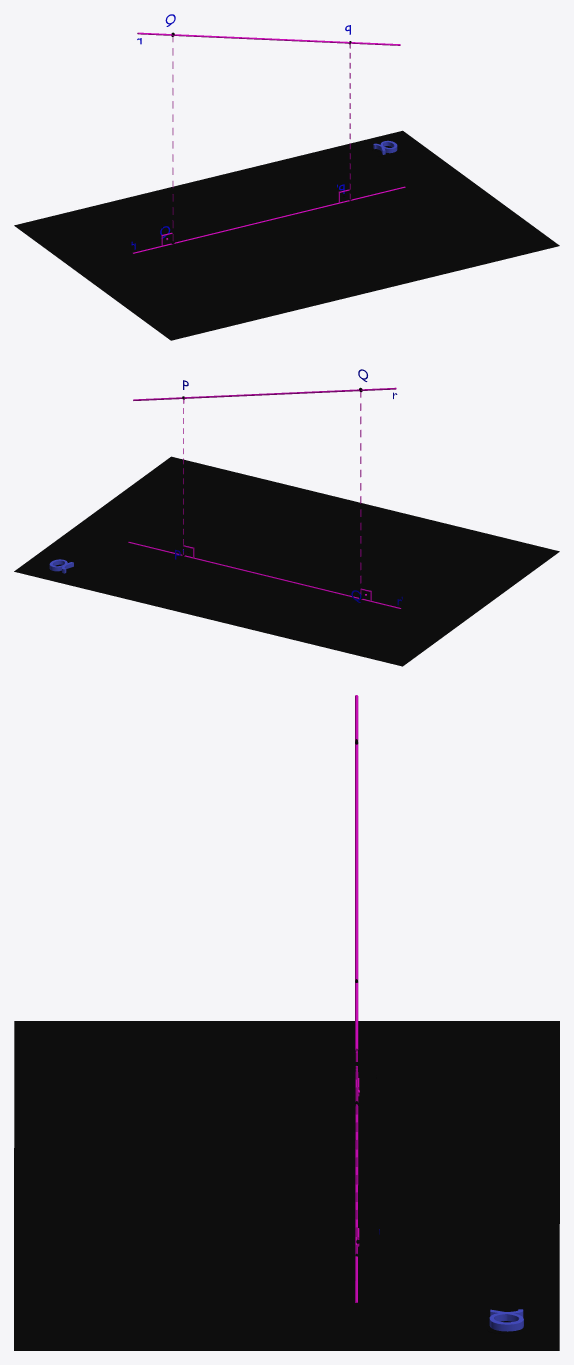
3 views of the same model, one above another, from view 1: azimuth 30°, elevation 25°; view 2: azimuth 150°, elevation 25°; view 3: azimuth 270°, elevation 25° (orthographic). The views are drawn at different scales.
Visible parts, largest first — view 1: node_id5, node_id11, node_id17, node_id32; view 2: node_id5, node_id11, node_id32, node_id17; view 3: node_id5, node_id11.
Part boxes in pixels (box(x1,y1,x2,y2)): node_id5: box(14, 130, 559, 340); node_id11: box(137, 32, 400, 45); node_id17: box(161, 37, 350, 245); node_id32: box(132, 186, 405, 253); node_id5: box(14, 456, 559, 666); node_id11: box(133, 387, 396, 400); node_id32: box(128, 542, 401, 608); node_id17: box(183, 392, 371, 601); node_id5: box(14, 1021, 559, 1350); node_id11: box(355, 695, 358, 1050).
Bounding box in the file's own units: 0.512 × 0.2944 × 0.3585.
Materials: 21 (21 with a texture image).
